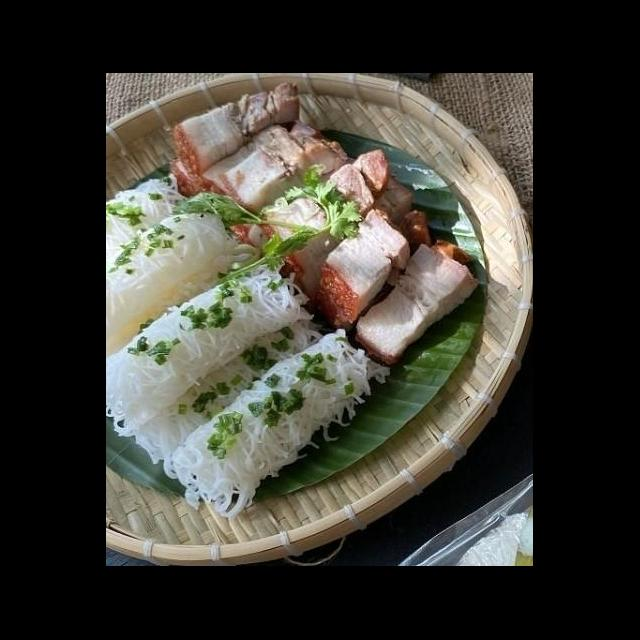banh hoi: (168, 322, 394, 524), (108, 251, 318, 438), (132, 316, 324, 484), (108, 198, 266, 362), (108, 168, 196, 274)
banh hoi heo quay: (107, 94, 506, 566)
thit heo quay: (252, 144, 392, 268), (352, 238, 482, 370), (168, 78, 308, 185), (214, 124, 352, 214), (314, 205, 412, 328)
